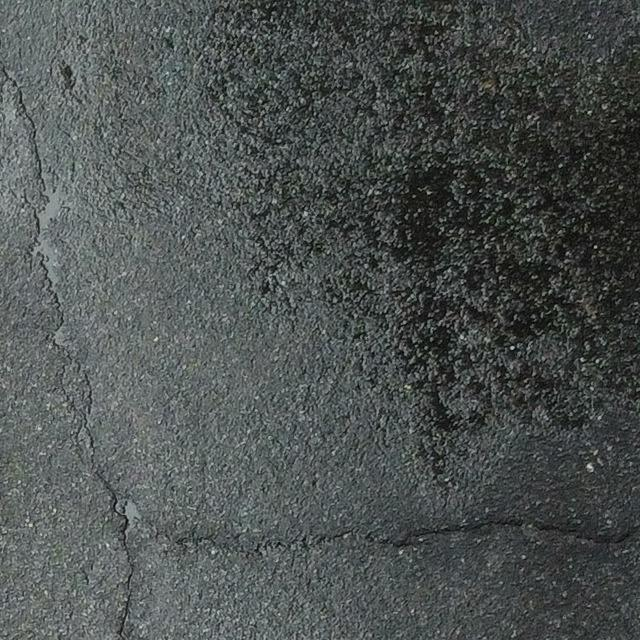LongitudinalCrack: (5, 68, 134, 638)
TransverseCrack: (177, 518, 640, 552)
